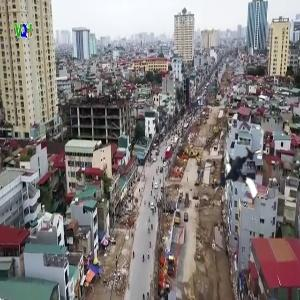drone: (208, 146, 275, 213)
